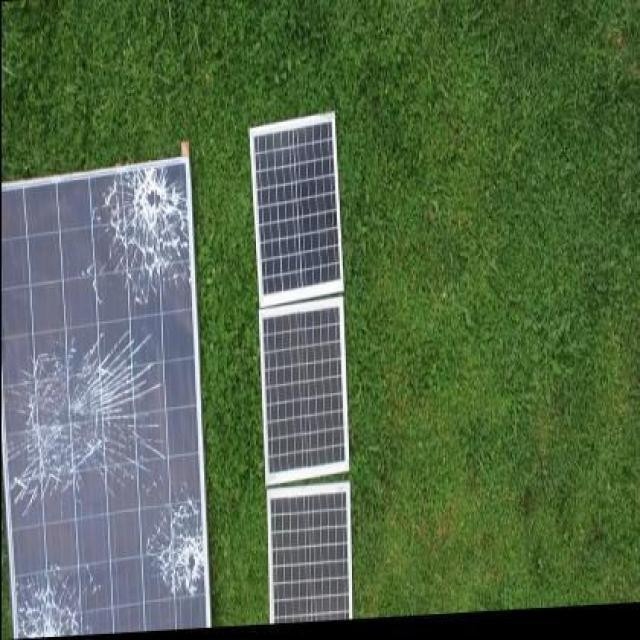cracked: (1, 155, 212, 637)
